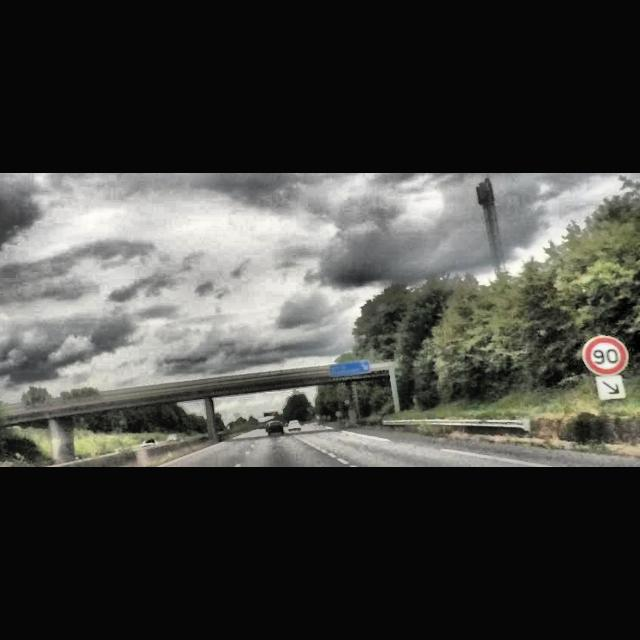speed_90: (586, 337, 626, 375)
